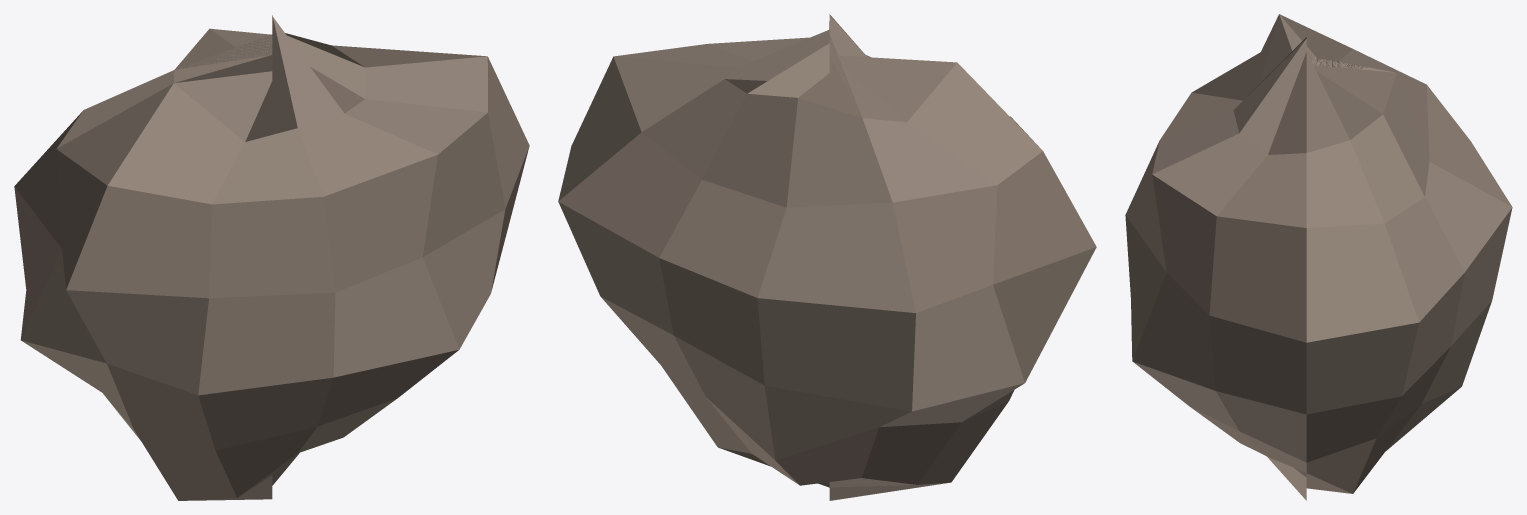
Rendered from Rock03.glb.
3 views of the same model, side by side, from view 1: azimuth 30°, elevation 25°; view 2: azimuth 150°, elevation 25°; view 3: azimuth 270°, elevation 25° (orthographic). The views are drawn at different scales.
Visible parts, largest first — view 1: Rock03Hull; view 2: Rock03Hull; view 3: Rock03Hull.
Part boxes in pixels (x1=…): Rock03Hull: x1=14, y1=15, x2=529, y2=500; Rock03Hull: x1=558, y1=14, x2=1096, y2=500; Rock03Hull: x1=1125, y1=14, x2=1512, y2=500.
Bounding box in the file's own units: 2.02 × 1.9 × 1.44.
